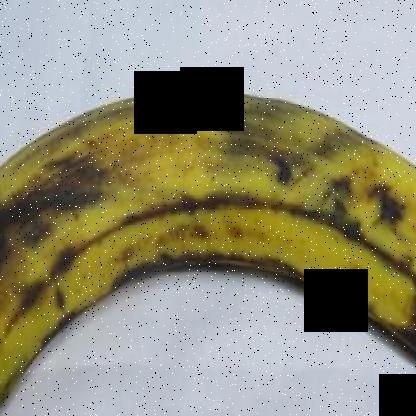overripe: (1, 75, 416, 415)
